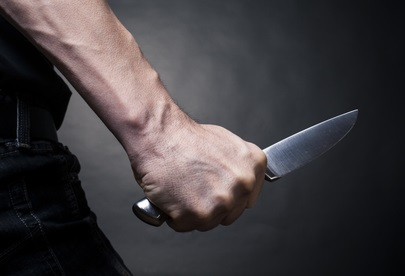knife: (169, 102, 364, 229)
